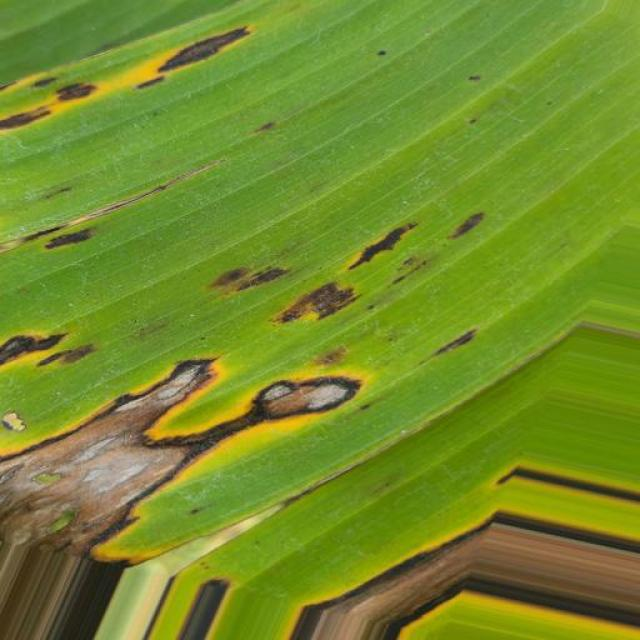Early_rust: (0, 26, 504, 604)
